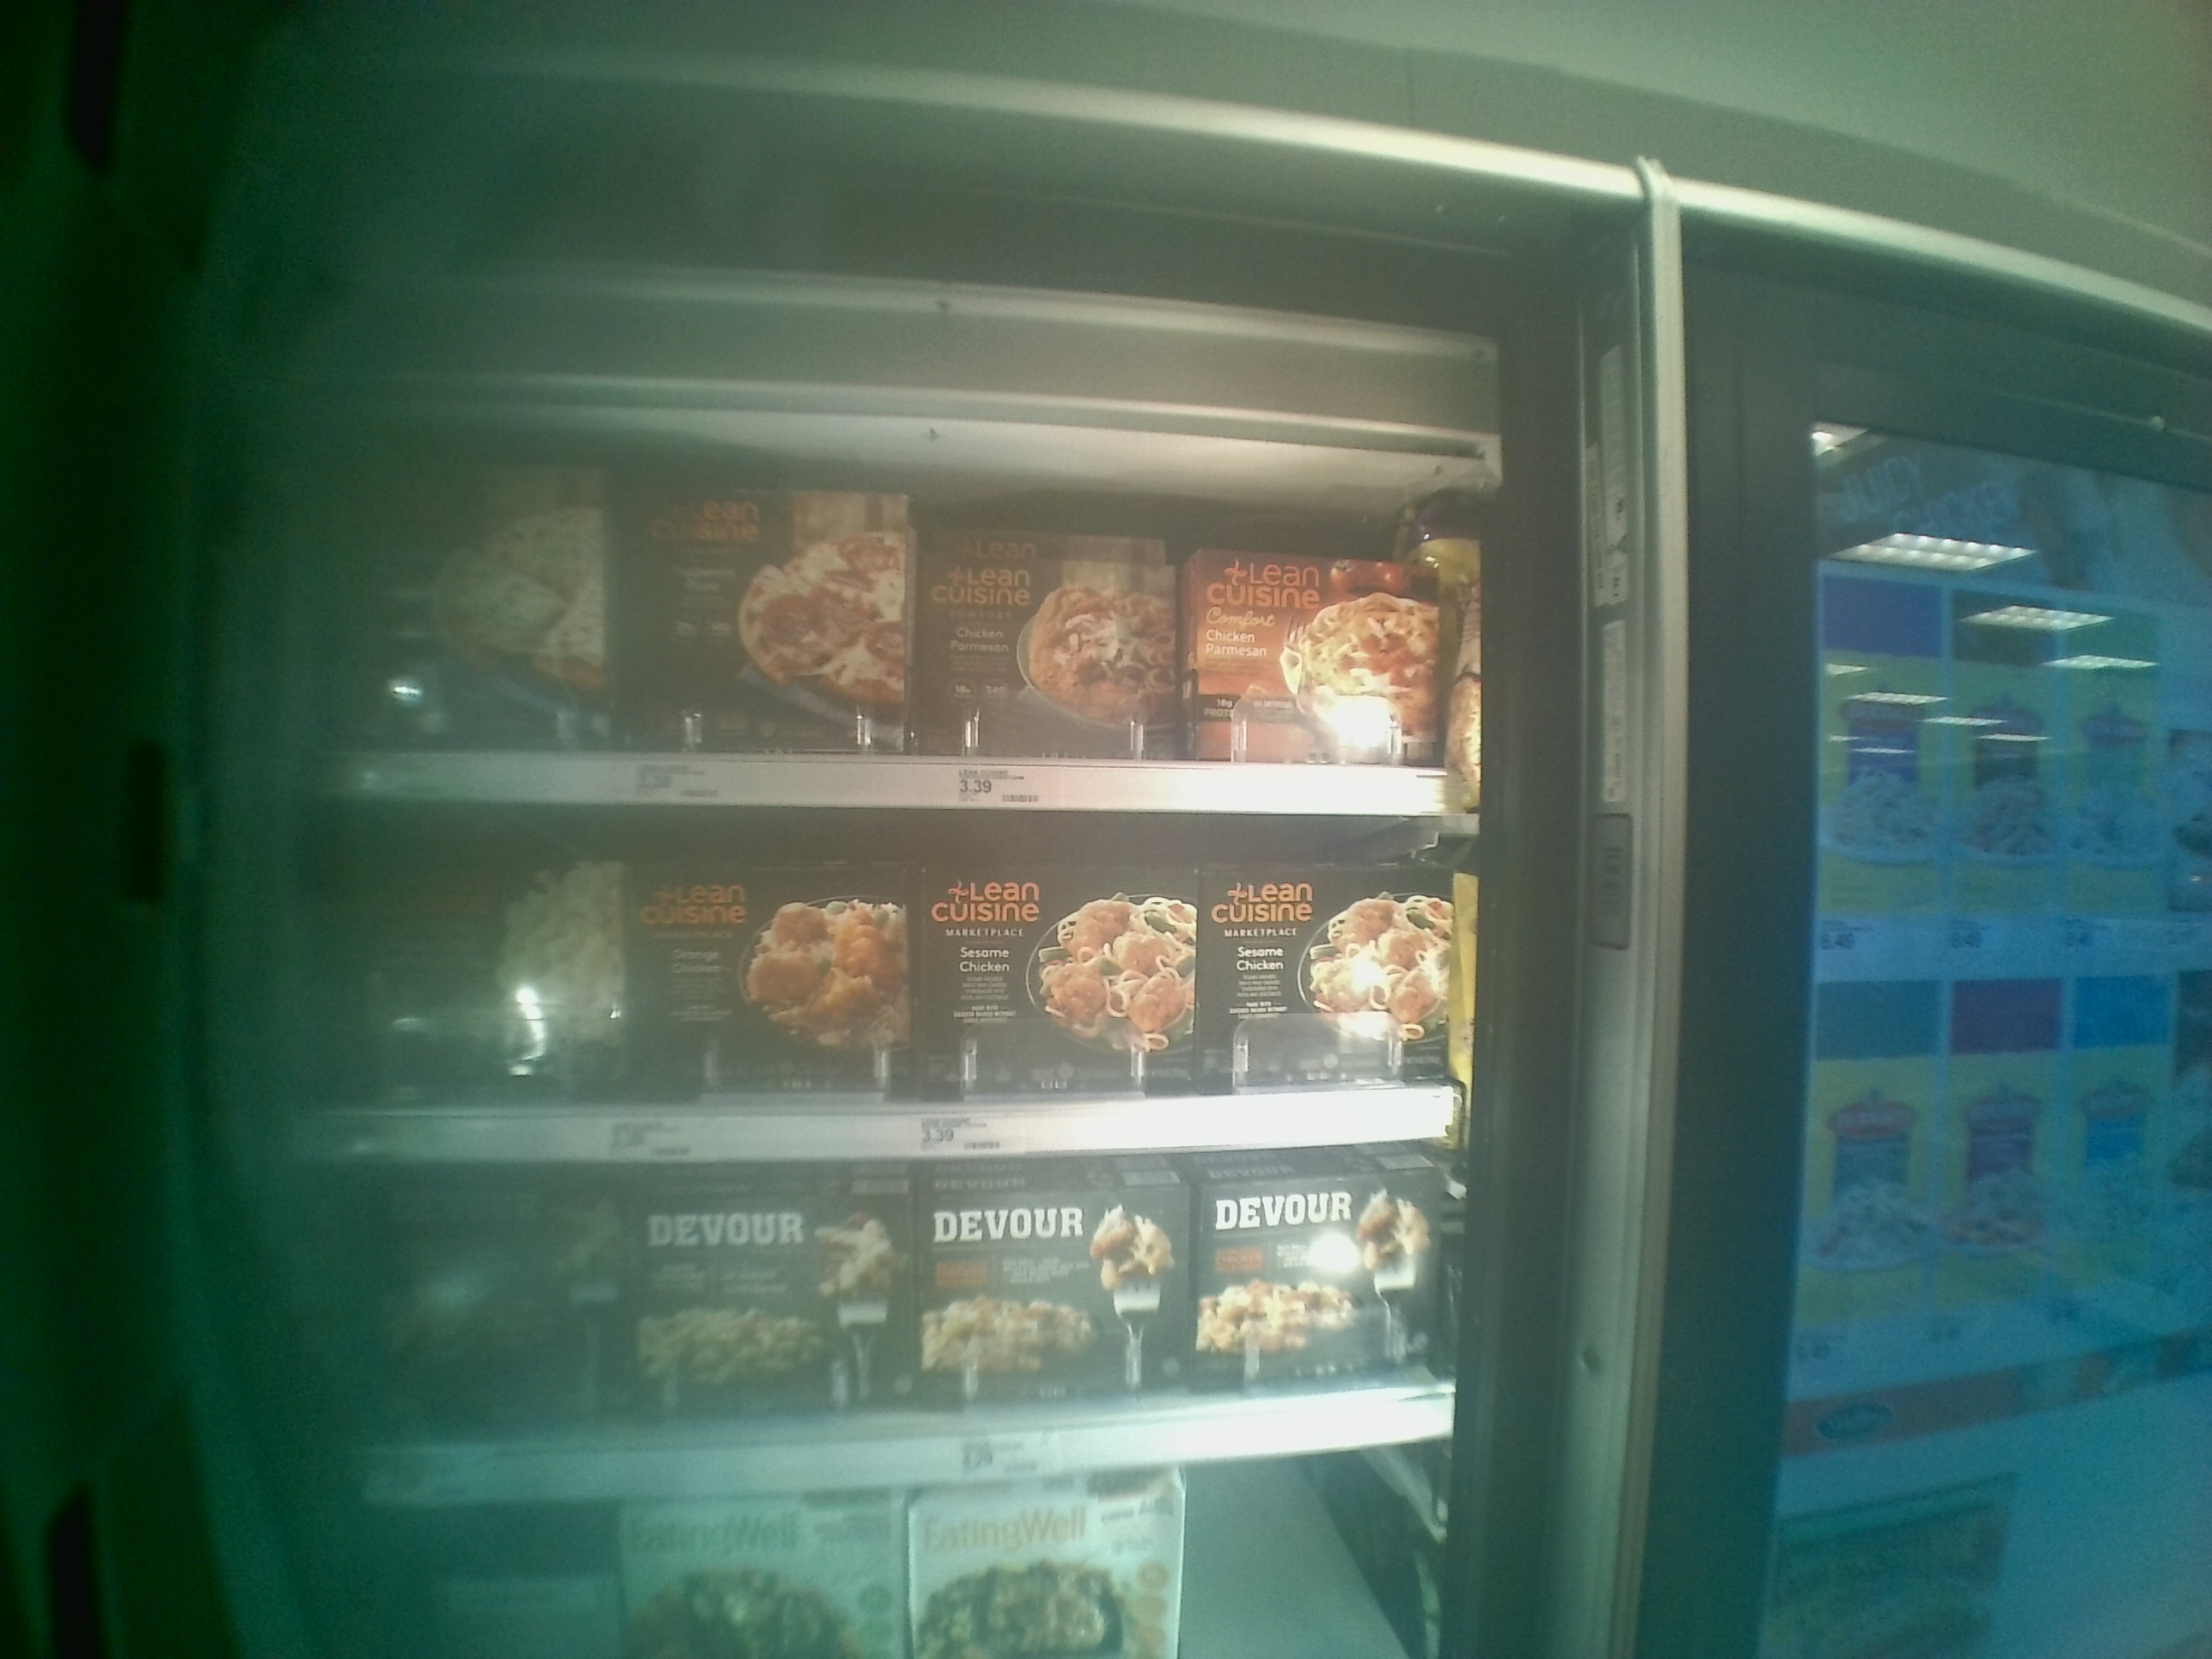shelf: (307, 410, 1475, 823), (308, 1134, 1475, 1516), (310, 802, 1463, 1154)
